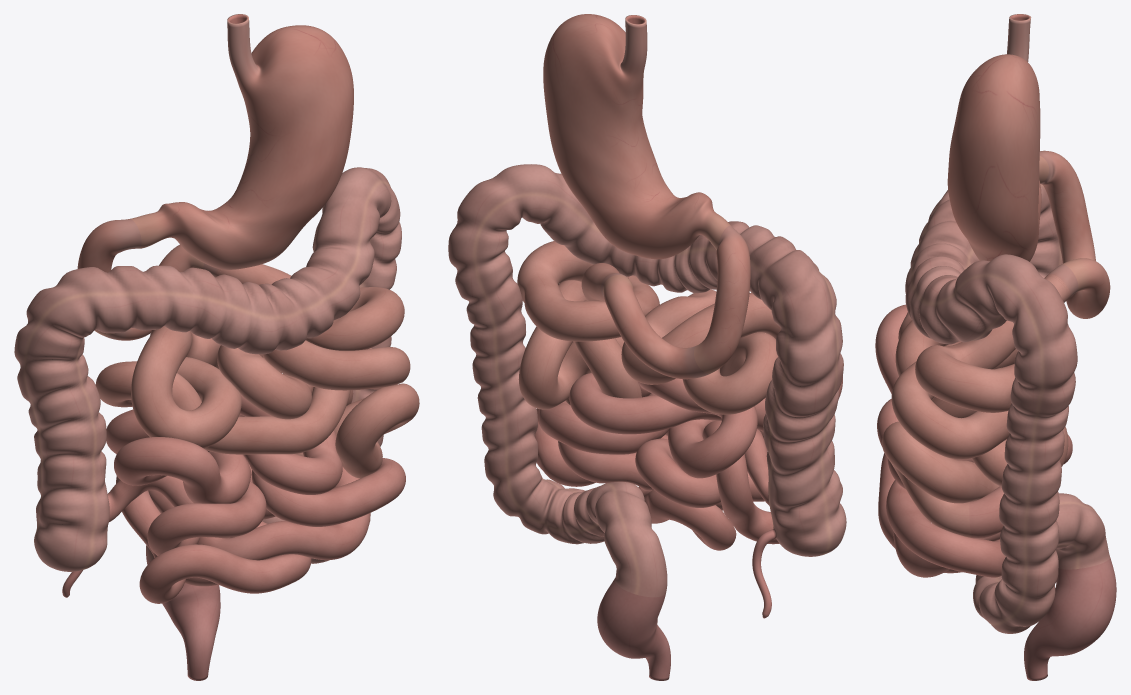
Rendered from previous-assembly.glb.
3 renders of one model, left to right at view 1: azimuth 30°, elevation 25°; view 2: azimuth 150°, elevation 25°; view 3: azimuth 270°, elevation 25°, orthographic. The views are drawn at different scales.
Visible parts, largest first — view 1: Ileum, Jejunum, Stomach, Transverse colon, Ascending colon, Right colic flexure, Caecum, Duodenum, Left colic flexure, Rectum, Descending colon, Anal canal; view 2: Ileum, Stomach, Jejunum, Descending colon, Ascending colon, Sigmoid colon, Duodenum, Transverse colon, Right colic flexure, Left colic flexure, Caecum, Rectum (+2 smaller); view 3: Jejunum, Stomach, Descending colon, Ileum, Transverse colon, Sigmoid colon, Duodenum, Rectum, Left colic flexure, Ascending colon, Anal canal.
Part boxes in pixels (<box>): Ileum: <box>106,395,405,603</box>; Jejunum: <box>95,264,419,478</box>; Stomach: <box>130,14,353,269</box>; Transverse colon: <box>116,206,378,354</box>; Ascending colon: <box>14,314,106,500</box>; Right colic flexure: <box>26,266,118,348</box>; Caecum: <box>34,488,109,571</box>; Duodenum: <box>77,219,218,340</box>; Left colic flexure: <box>322,167,396,225</box>; Rectum: <box>146,553,220,641</box>; Descending colon: <box>351,198,401,446</box>; Anal canal: <box>184,640,214,680</box>; Ileum: <box>535,373,842,550</box>; Stomach: <box>543,14,730,259</box>; Jejunum: <box>517,241,780,414</box>; Descending colon: <box>448,197,537,469</box>; Ascending colon: <box>763,323,843,500</box>; Sigmoid colon: <box>484,460,667,597</box>; Duodenum: <box>600,225,750,379</box>; Transverse colon: <box>540,188,796,299</box>; Right colic flexure: <box>758,246,840,330</box>; Left colic flexure: <box>465,164,569,229</box>; Caecum: <box>768,473,846,556</box>; Rectum: <box>597,579,667,658</box>; Jejunum: <box>882,274,1070,537</box>; Stomach: <box>947,14,1048,261</box>; Descending colon: <box>999,306,1077,579</box>; Ileum: <box>875,304,1072,577</box>; Transverse colon: <box>905,190,1006,344</box>; Sigmoid colon: <box>973,493,1109,633</box>; Duodenum: <box>1039,150,1110,318</box>; Rectum: <box>1027,557,1116,657</box>; Left colic flexure: <box>969,254,1065,328</box>; Ascending colon: <box>1030,207,1062,277</box>; Anal canal: <box>1024,640,1049,680</box>.
Size of the model in its own units: 0.3453 by 0.5671 by 0.1829.
12 materials, 11 textured.
